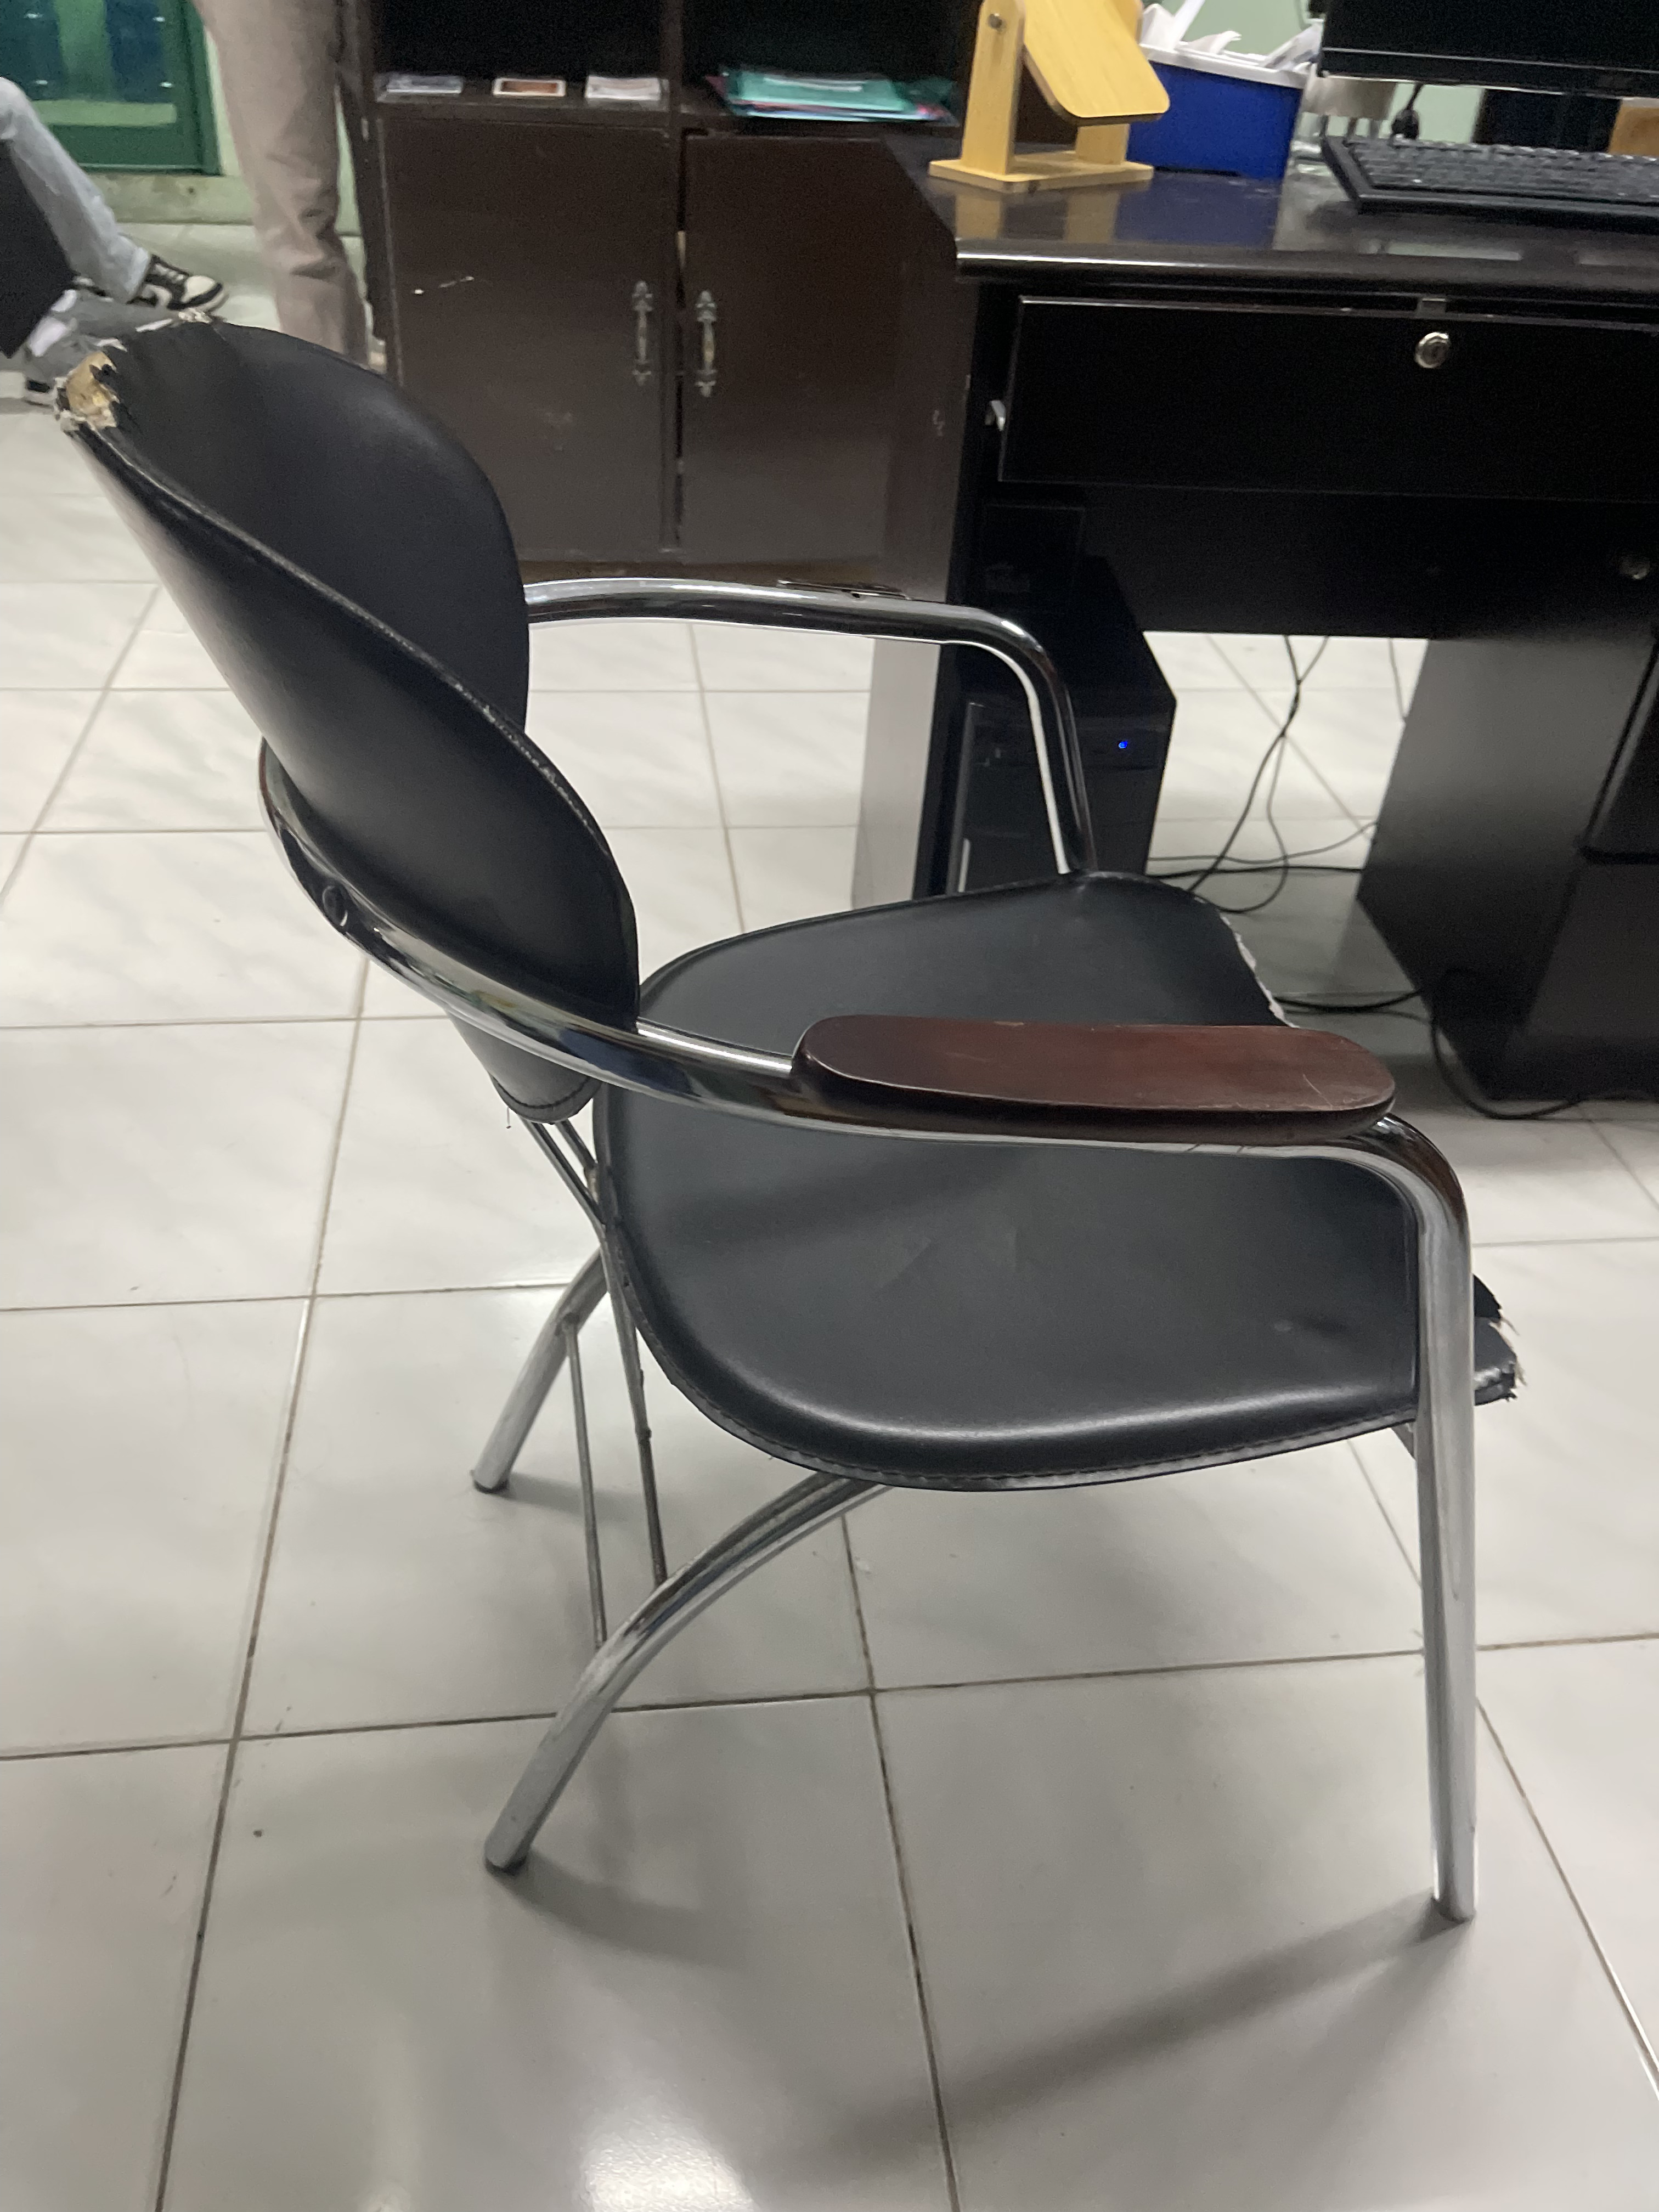chair1: (61, 326, 1530, 1926)
